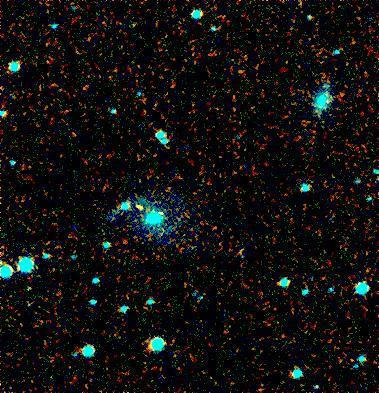star: (127, 193, 157, 223)
